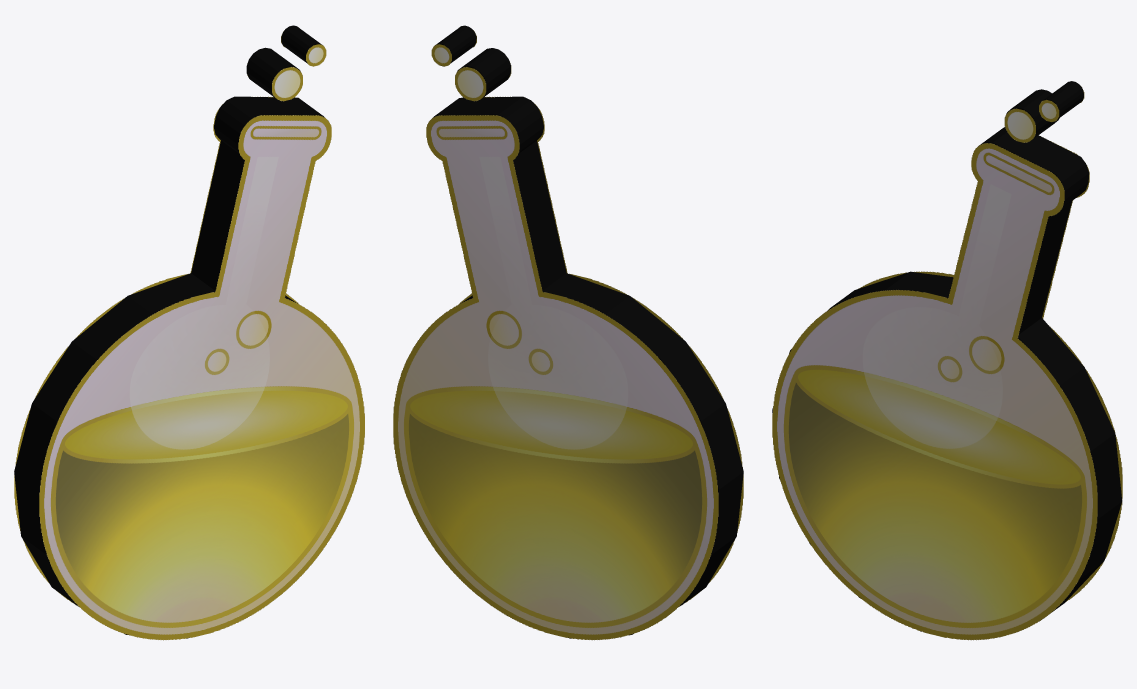
File: item_s_h1.fbx
The picture shows the model from 3 angles, left to right: view 1: azimuth 30°, elevation 25°; view 2: azimuth 150°, elevation 25°; view 3: azimuth 330°, elevation 25°; orthographic projection.
Parts seen in each view (by area): view 1: super_hp; view 2: super_hp; view 3: super_hp.
Boxes of the visible parts, x1,y1,x2,y2 form: super_hp: [14, 25, 364, 640]; super_hp: [393, 25, 743, 640]; super_hp: [772, 81, 1122, 640].
Bounding box in the file's own units: 5.33 × 8.8 × 0.708.
Materials: 3 (2 with a texture image).
